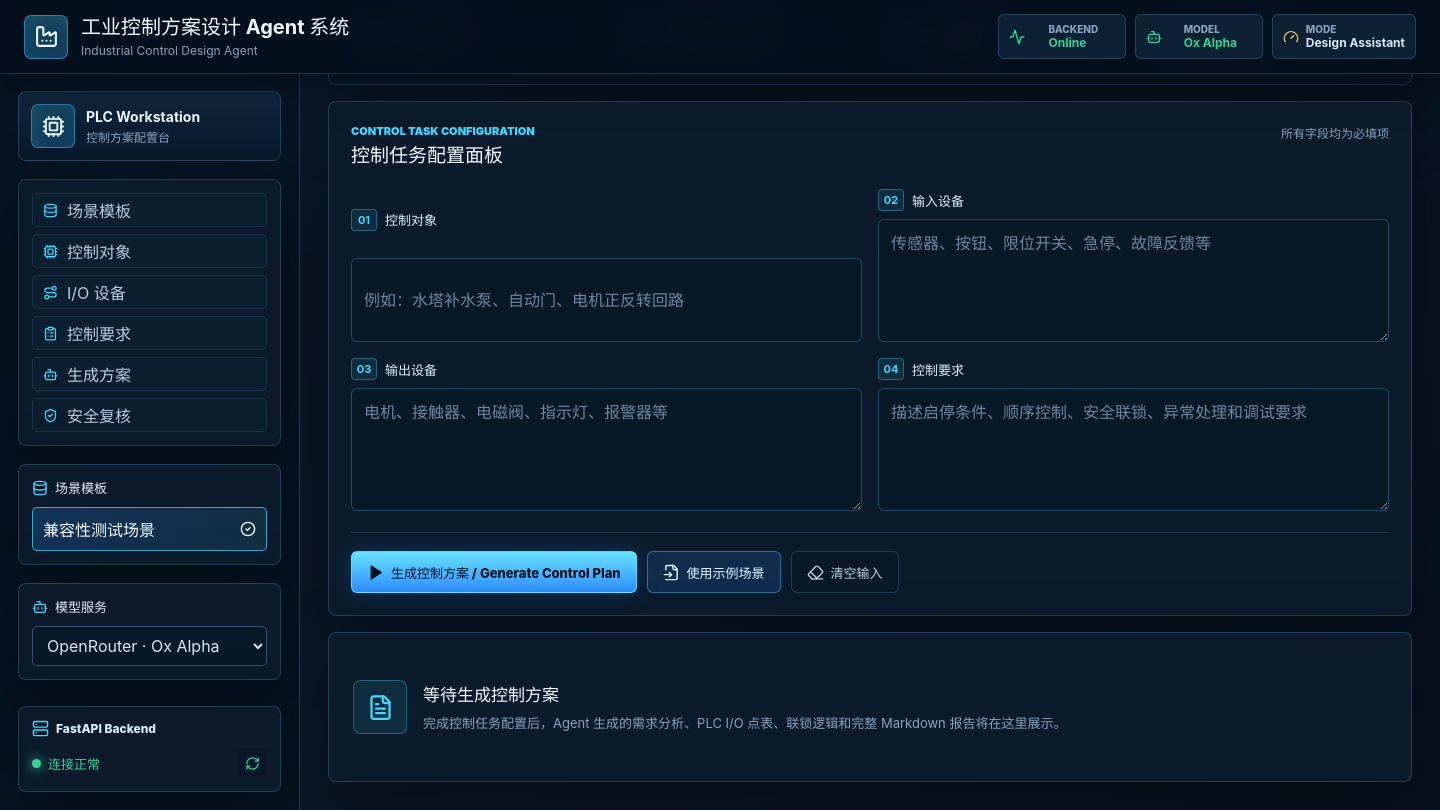
Test: App response compatibility › blocks report copying until a critical plan is manually reviewed
This screenshot has width=1440, height=810.
(page scrolled)
Step 1. Click the button "使用示例场景" → point(714, 572), box [647, 552, 781, 594]
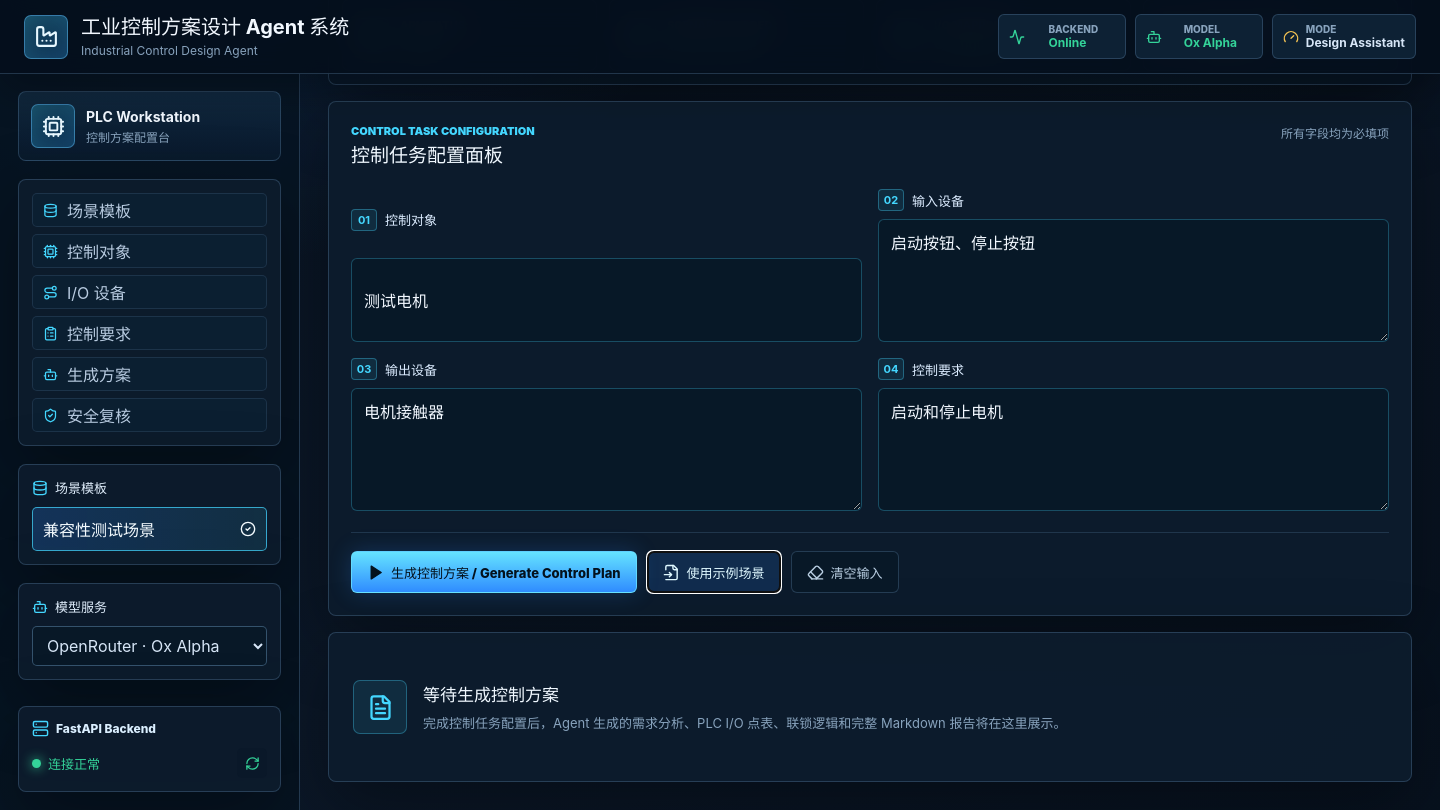
Step 2. Click the button "生成控制方案 / Generate Control Plan" → point(494, 572), box [351, 552, 637, 594]
(page scrolled)
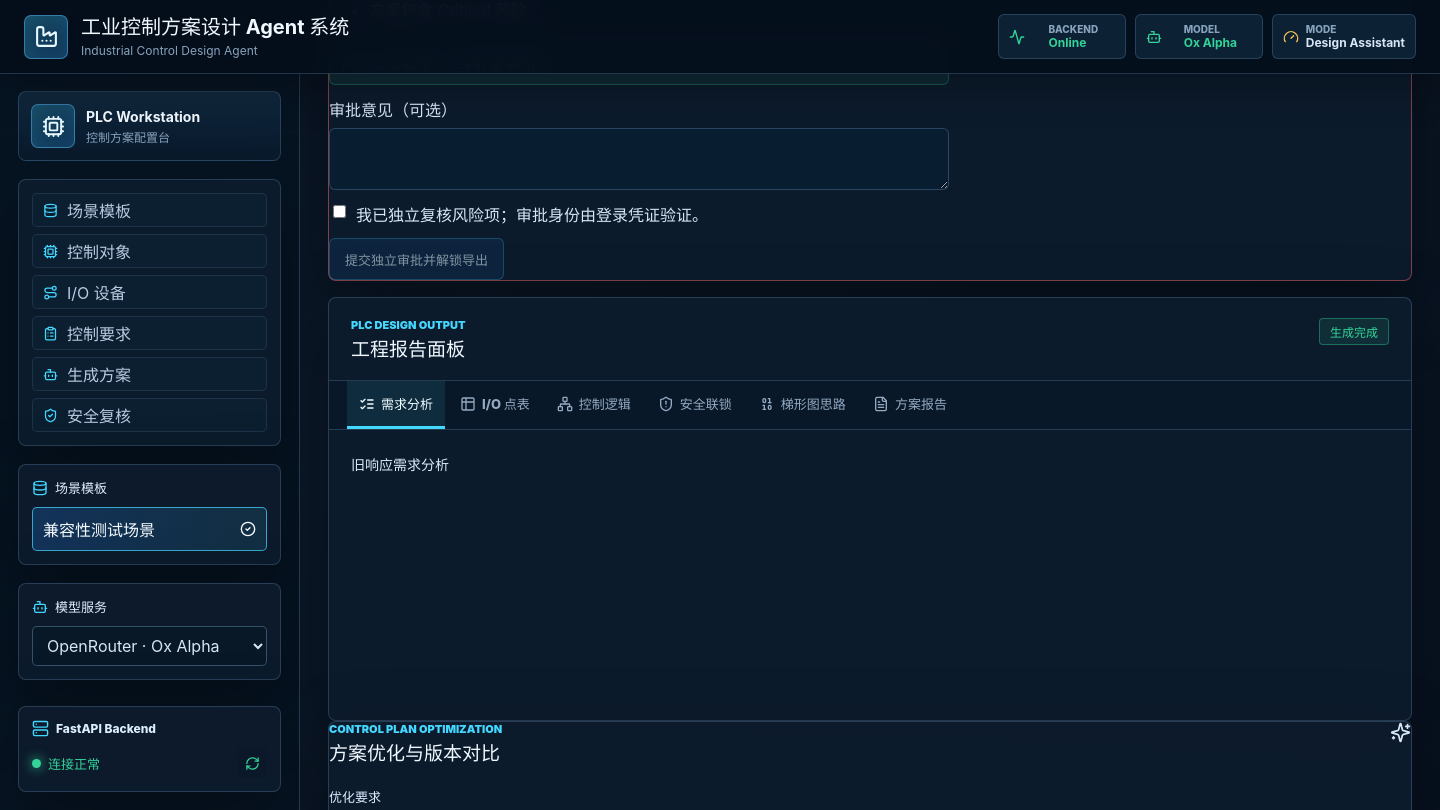
Step 3. Click the tab "方案报告" → point(910, 405), box [861, 381, 959, 429]
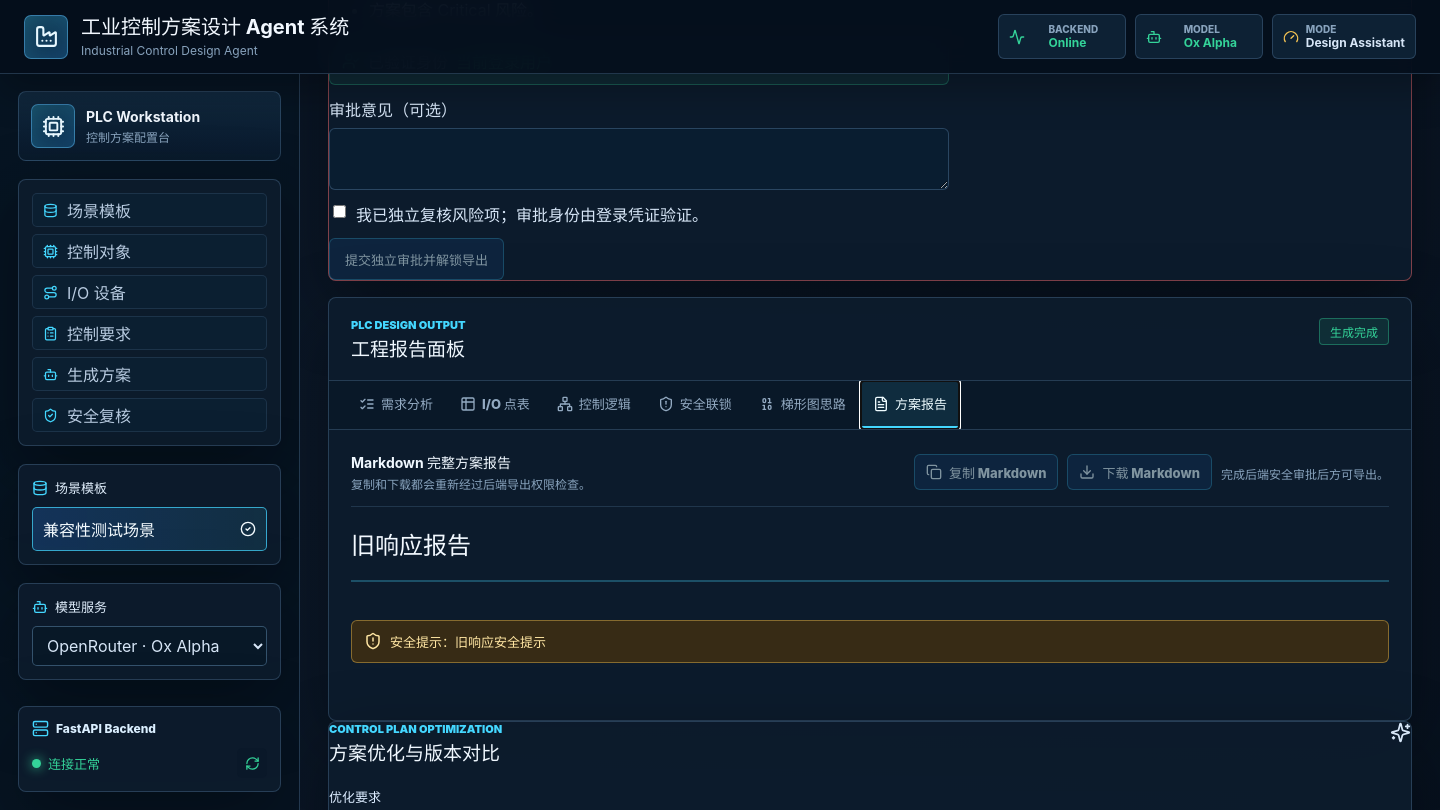
Check: the element named "已验证审批身份" shows "当前登录用户", box [456, 52, 552, 72]
Check: the button "复制 Markdown" is disabled, box [914, 454, 1058, 490]
Step 4. Click the checkbox labelled "我已独立复核风险项；审批身份由登录凭证验证。" → point(340, 212), box [333, 206, 346, 218]
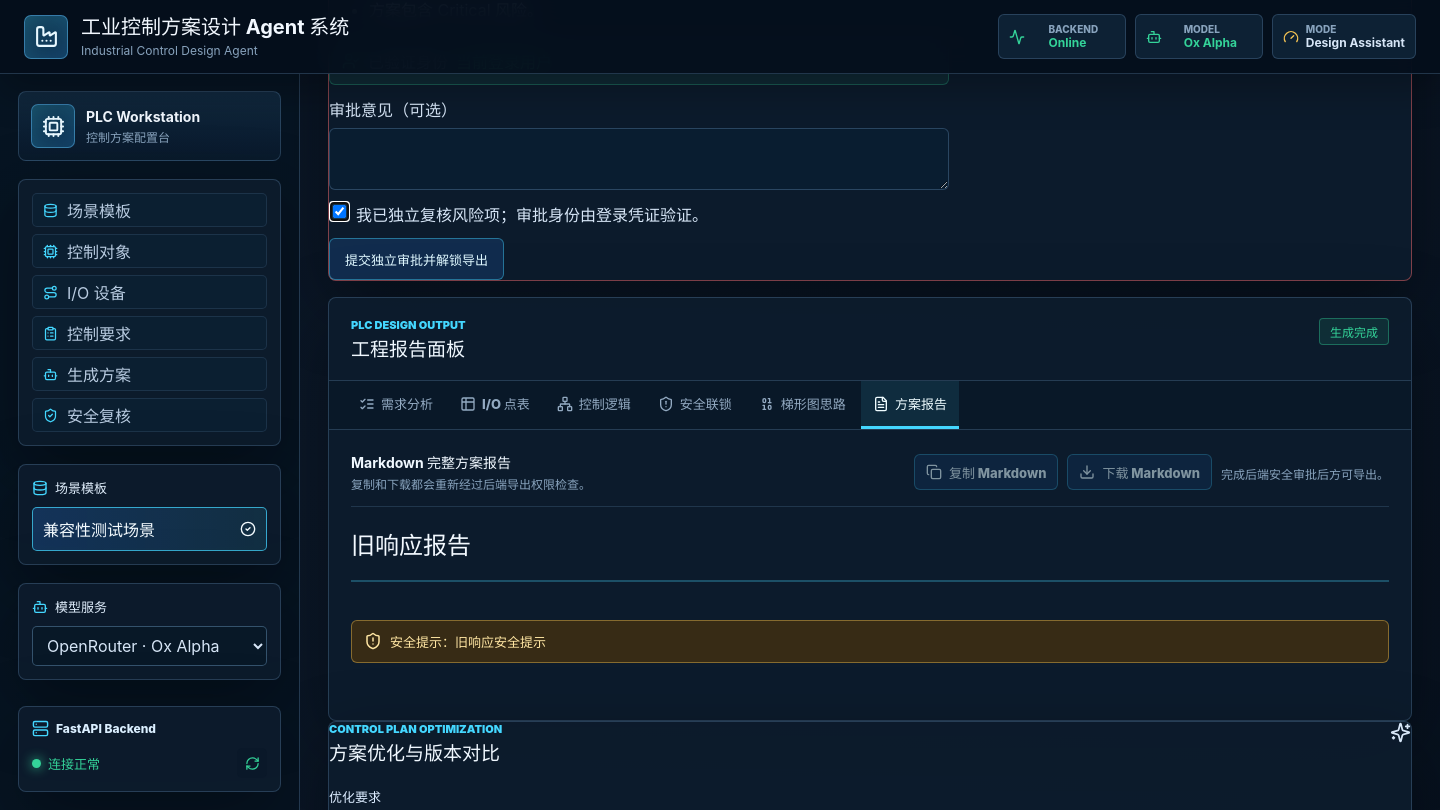
Step 5. Click the button "提交独立审批并解锁导出" → point(416, 260), box [329, 238, 504, 280]
(page scrolled)
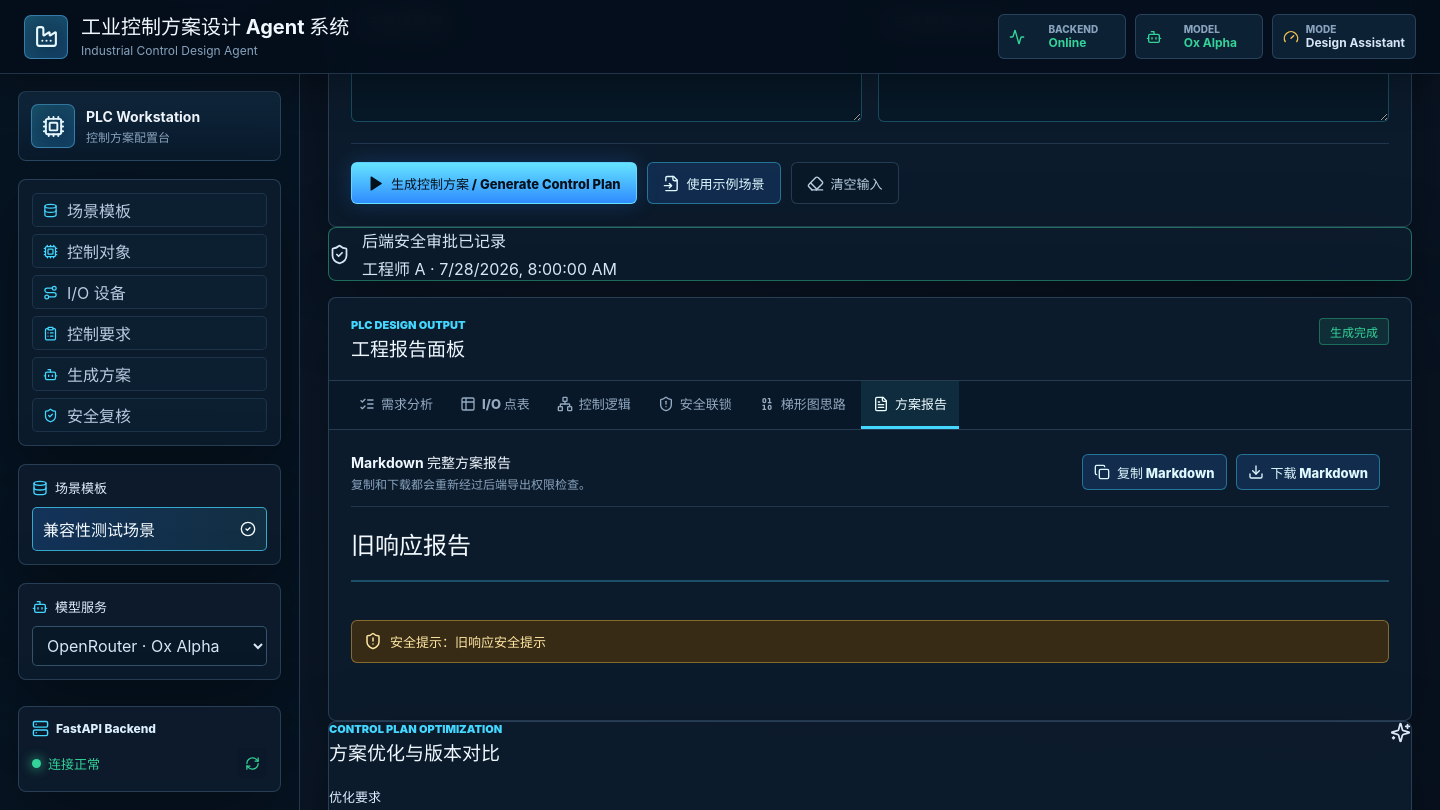
Check: the text "后端安全审批已记录" is shown, box [362, 232, 506, 252]
Check: the button "复制 Markdown" is enabled, box [1082, 454, 1226, 490]
